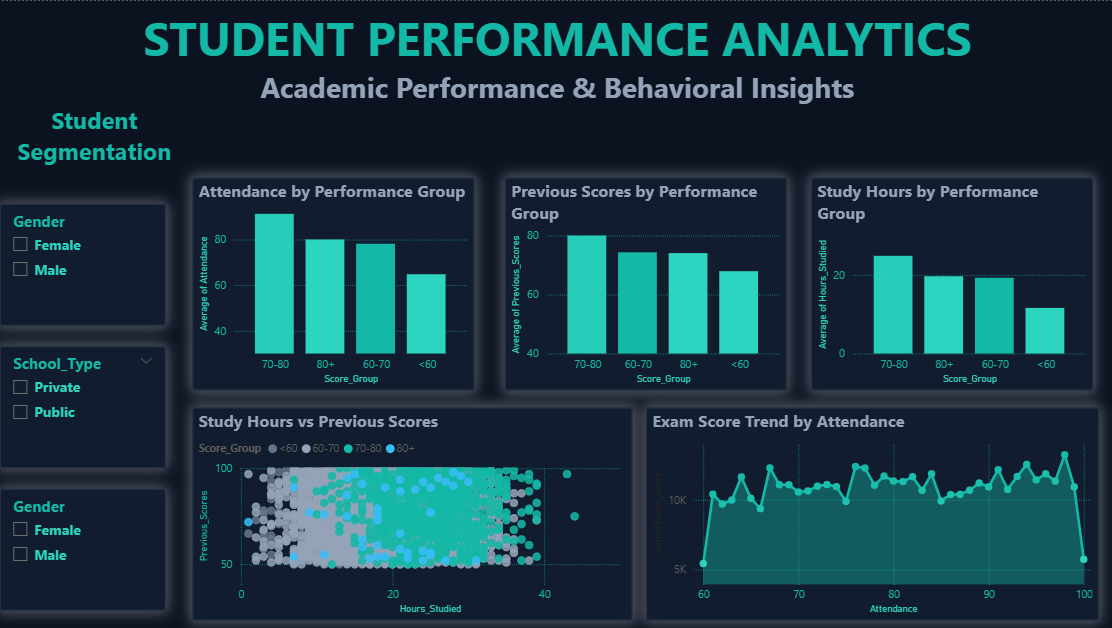

This screenshot's page, from the dashboard's own definition file:
{"tool":"powerbi","page":{"name":"Student Segmentation","canvas":[1280,720],"ordinal":2},"visuals":[{"type":"textbox","box":[156.7,0,966.7,128.3],"z":0},{"type":"clusteredColumnChart","title":"Attendance by Performance Group","fields":{"Category":["clean_data.Score_Group"],"Y":["Avg(clean_data.Attendance)"]},"box":[222.9,201.4,322.9,244.3],"z":1000},{"type":"slicer","fields":{"Values":["clean_data.Gender"]},"box":[2.3,231.4,190,140],"z":2000},{"type":"slicer","fields":{"Values":["clean_data.School_Type"]},"box":[2.3,394.3,190,140],"z":3000},{"type":"slicer","fields":{"Values":["clean_data.Gender"]},"box":[2.3,557.1,190,140],"z":4000},{"type":"textbox","box":[0,112.9,222.9,102.9],"z":5000},{"type":"clusteredColumnChart","title":"Previous Scores by Performance Group","fields":{"Y":["Avg(clean_data.Previous_Scores)"],"Category":["clean_data.Score_Group"]},"box":[580,201.4,322.9,244.3],"z":6000},{"type":"clusteredColumnChart","title":"Study Hours by Performance Group","fields":{"Y":["Avg(clean_data.Hours_Studied)"],"Category":["clean_data.Score_Group"]},"box":[930,201.4,322.9,244.3],"z":6001},{"type":"scatterChart","title":"Study Hours vs Previous Scores","fields":{"X":["clean_data.Hours_Studied"],"Y":["clean_data.Previous_Scores"],"Series":["clean_data.Score_Group"]},"box":[222.9,464.3,504.3,244.3],"z":6002},{"type":"areaChart","title":"Exam Score Trend by Attendance","fields":{"Category":["clean_data.Attendance"],"Y":["Sum(clean_data.Exam_Score)"]},"box":[741.4,464.3,518.6,244.3],"z":6003}]}

Visuals, with their boxes in screenshot pixels (x1, y1, x2, y2), scaled from the page's 1280x720 canvas onto the 1112x628 screenshot:
textbox: pyautogui.locateOnScreen(136, 0, 976, 112)
"Attendance by Performance Group" clusteredColumnChart: pyautogui.locateOnScreen(194, 176, 474, 389)
slicer - clean_data.Gender: pyautogui.locateOnScreen(2, 202, 167, 324)
slicer - clean_data.School_Type: pyautogui.locateOnScreen(2, 344, 167, 466)
slicer - clean_data.Gender: pyautogui.locateOnScreen(2, 486, 167, 608)
textbox: pyautogui.locateOnScreen(0, 98, 194, 188)
"Previous Scores by Performance Group" clusteredColumnChart: pyautogui.locateOnScreen(504, 176, 784, 389)
"Study Hours by Performance Group" clusteredColumnChart: pyautogui.locateOnScreen(808, 176, 1088, 389)
"Study Hours vs Previous Scores" scatterChart: pyautogui.locateOnScreen(194, 405, 632, 618)
"Exam Score Trend by Attendance" areaChart: pyautogui.locateOnScreen(644, 405, 1095, 618)
